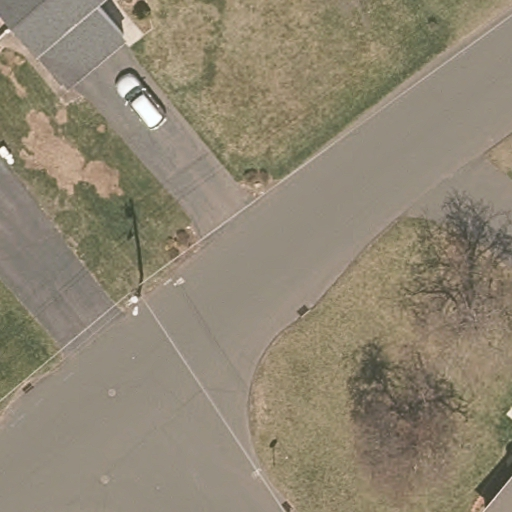DT: (128, 288, 142, 317)
